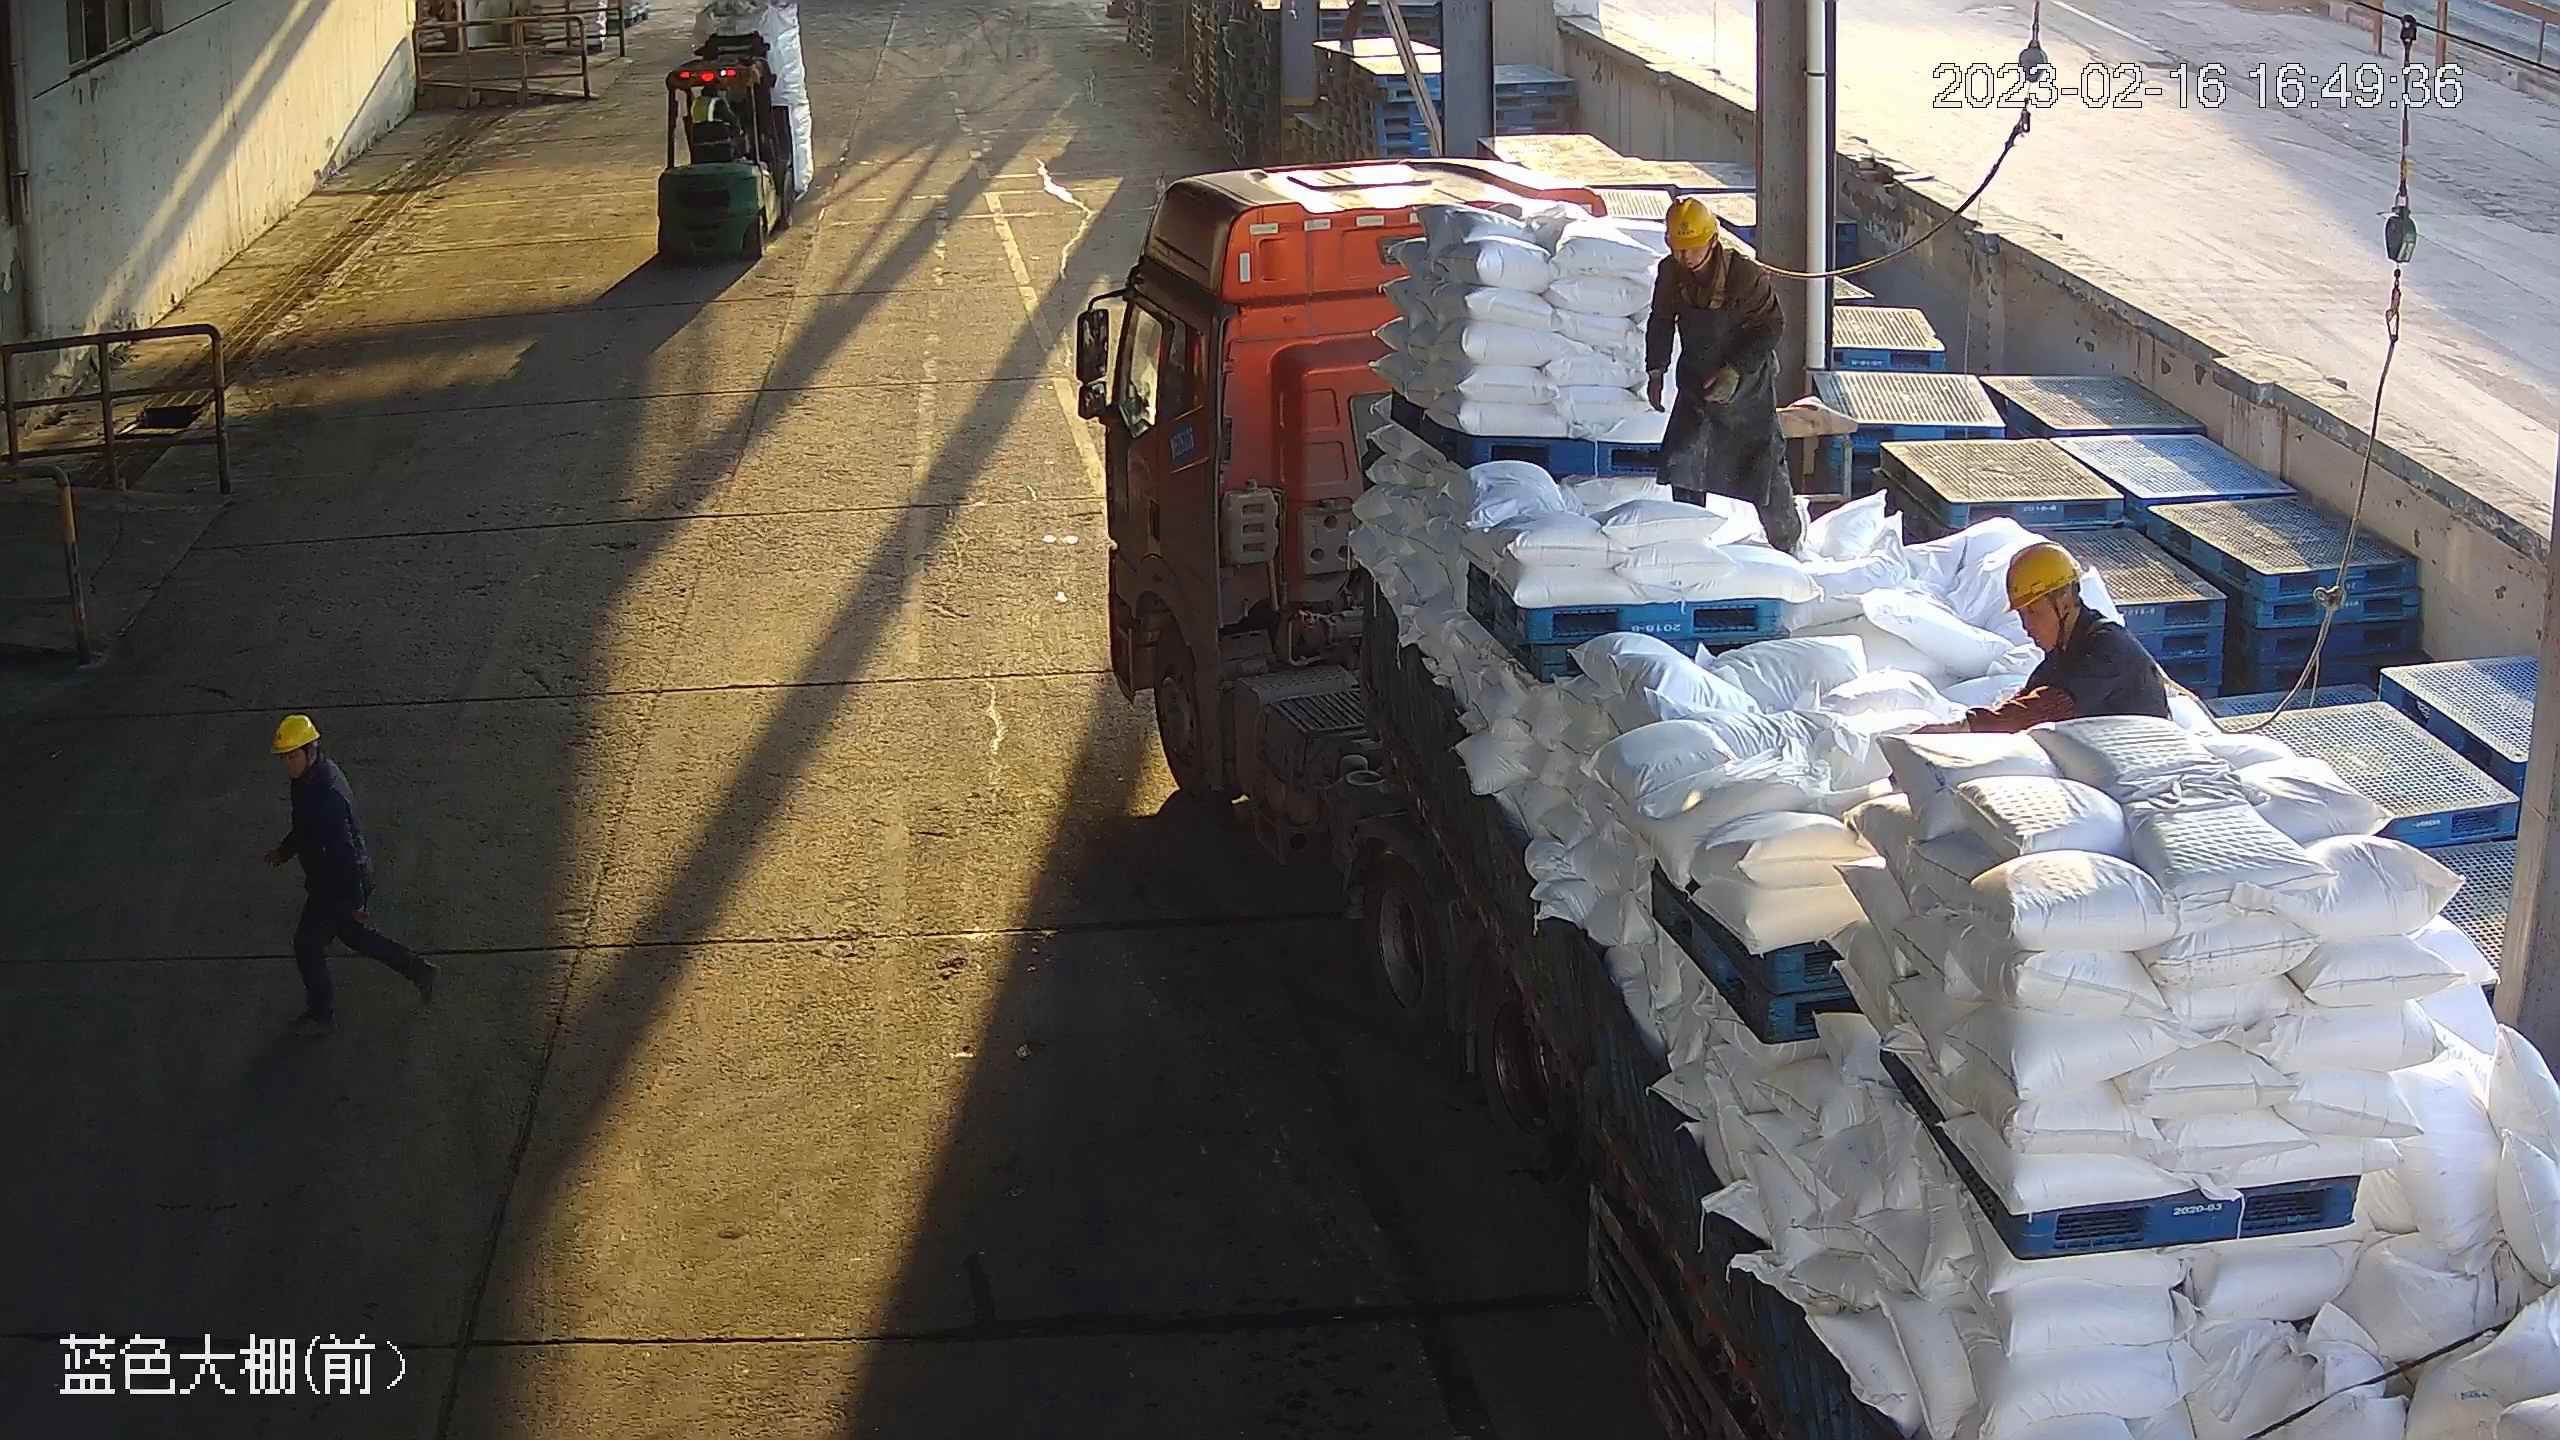belt: (1680, 246, 1741, 309)
head: (2001, 541, 2146, 678), (1653, 197, 1759, 291), (261, 713, 347, 806)
helmet: (2002, 542, 2082, 614), (1663, 197, 1717, 249), (270, 714, 320, 755)
people: (1642, 196, 1814, 561), (261, 713, 443, 1039)
truck: (1076, 159, 2560, 1440)
